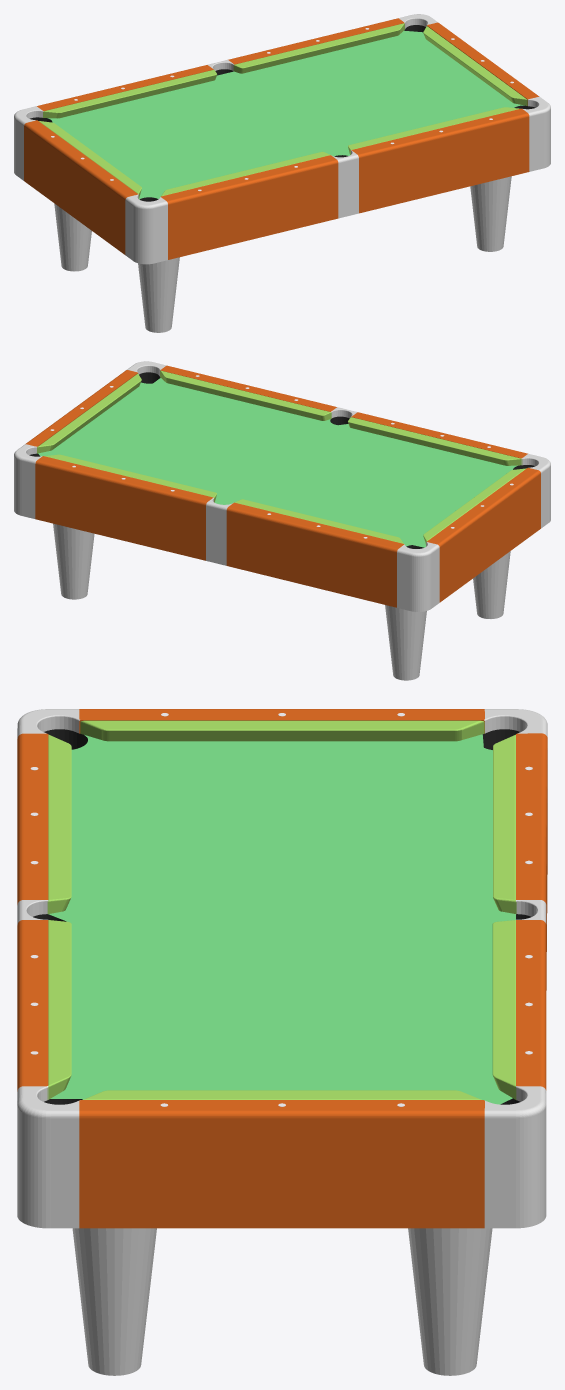
Rendered from PoolTable.fbx.
The picture shows the model from 3 angles, top to bottom: view 1: azimuth 30°, elevation 25°; view 2: azimuth 150°, elevation 25°; view 3: azimuth 270°, elevation 25°; orthographic projection. The views are drawn at different scales.
Parts seen in each view (by area): view 1: Rails, PlayField, Cushions, Legs; view 2: Rails, PlayField, Cushions, Legs; view 3: PlayField, Rails, Cushions, Legs.
Part boxes in pixels (left/top/right/bottom): Rails: left=14, top=14, right=550, bottom=264; PlayField: left=47, top=30, right=524, bottom=199; Cushions: left=39, top=23, right=527, bottom=198; Legs: left=54, top=176, right=511, bottom=332; Rails: left=14, top=361, right=550, bottom=611; PlayField: left=38, top=378, right=517, bottom=547; Cushions: left=37, top=370, right=526, bottom=545; Legs: left=53, top=523, right=510, bottom=680; PlayField: left=48, top=734, right=515, bottom=1104; Rails: left=17, top=709, right=547, bottom=1228; Cushions: left=47, top=720, right=516, bottom=1100; Legs: left=72, top=1228, right=492, bottom=1375.
Bounding box in the file's own units: 250 × 84.11 × 138.
